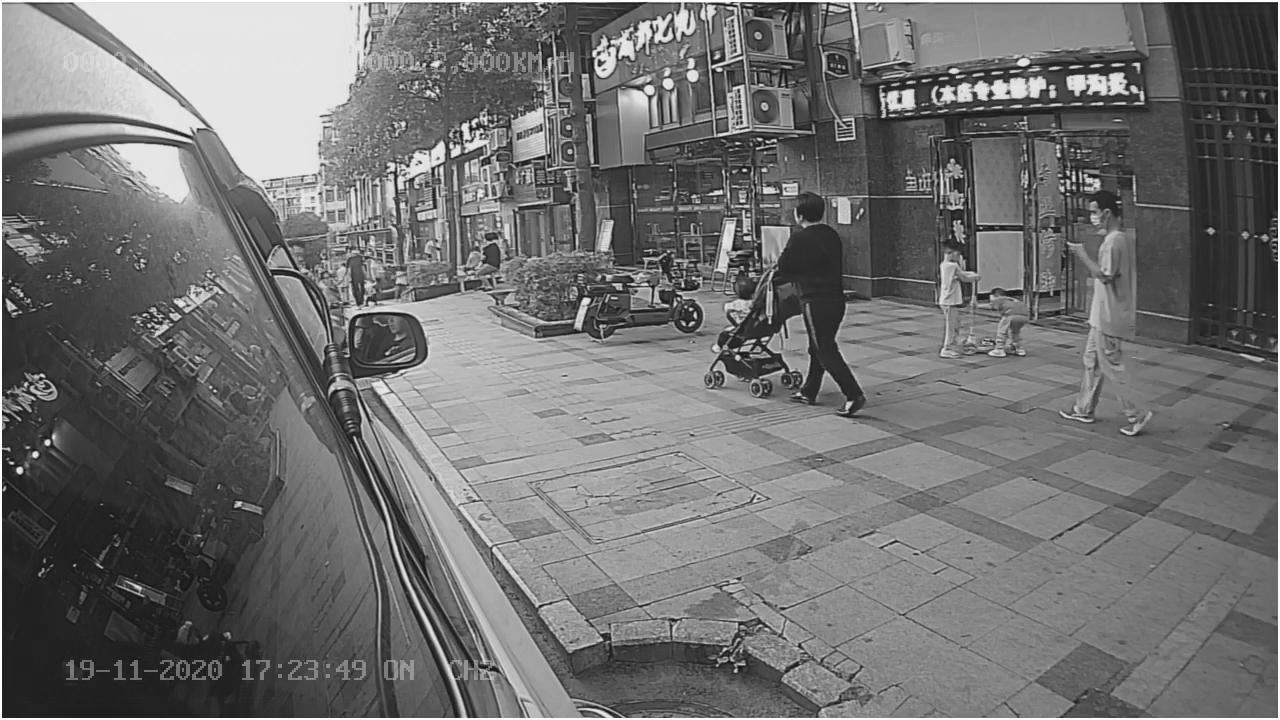person: (767, 188, 868, 423), (1062, 188, 1154, 436), (931, 238, 980, 360), (973, 284, 1035, 363)
